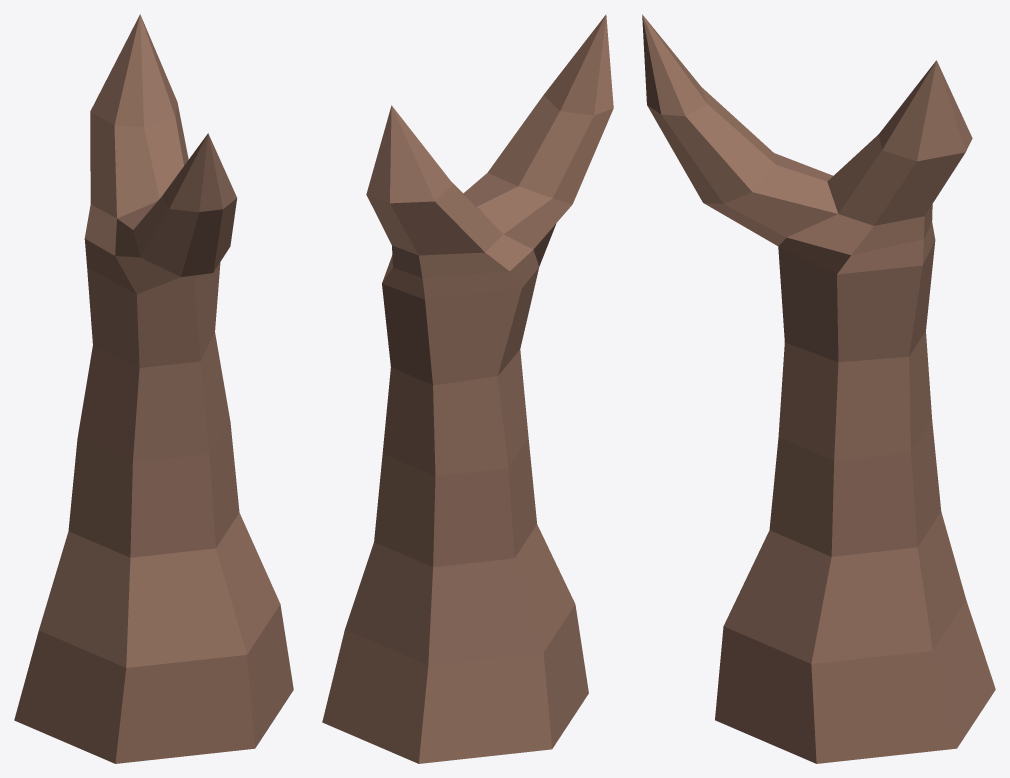
The model's file is Tronc008.fbx.
3 renders of one model, left to right at view 1: azimuth 30°, elevation 25°; view 2: azimuth 150°, elevation 25°; view 3: azimuth 270°, elevation 25°, orthographic. The views are drawn at different scales.
Parts seen in each view (by area): view 1: Tronc008; view 2: Tronc008; view 3: Tronc008.
Boxes of the visible parts, box(x1,y1,x2,y2) form: Tronc008: box(14, 14, 293, 763); Tronc008: box(322, 14, 613, 763); Tronc008: box(642, 14, 995, 763).
Size of the model in its own units: 17.33 by 45.5 by 21.92.
